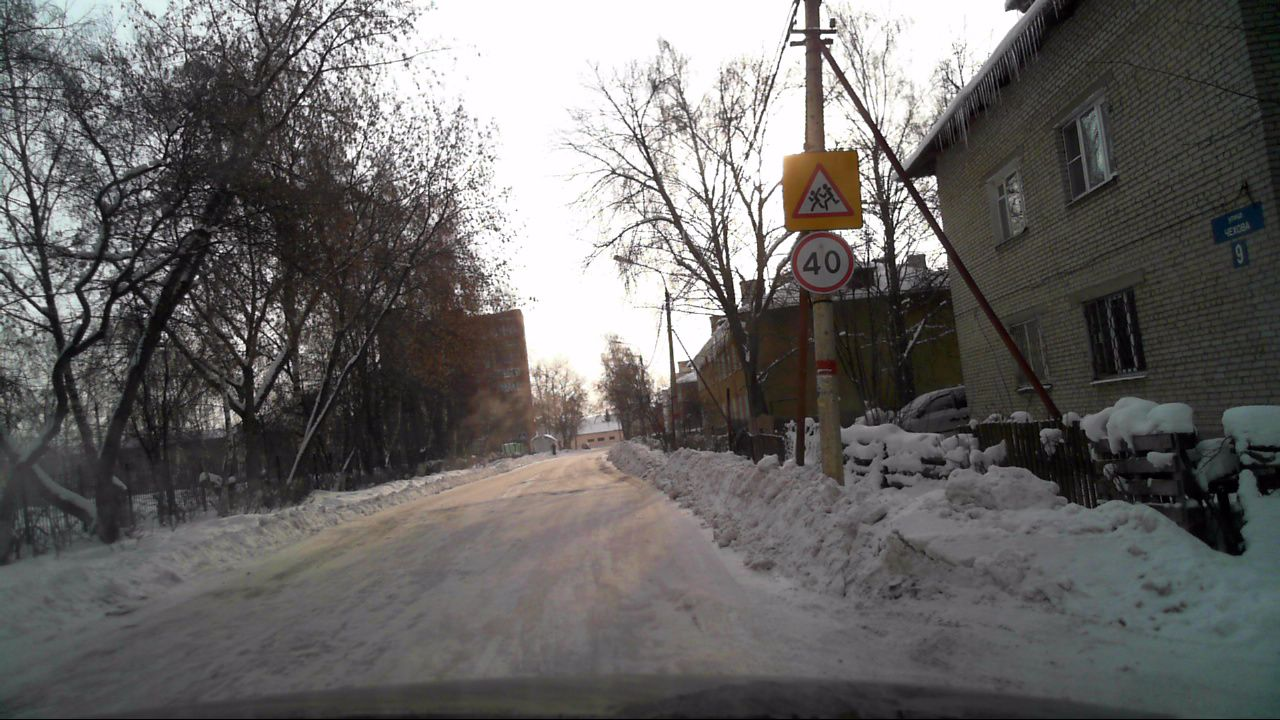speed_warning_40: (791, 232, 852, 293)
